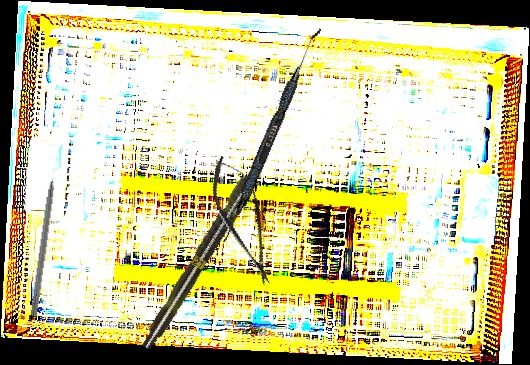Handpiece: (137, 148, 276, 353)
Hook Surgical: (29, 162, 61, 317)
Micro Scissor: (200, 149, 288, 292)
Spatula Surgical: (220, 23, 322, 247)
